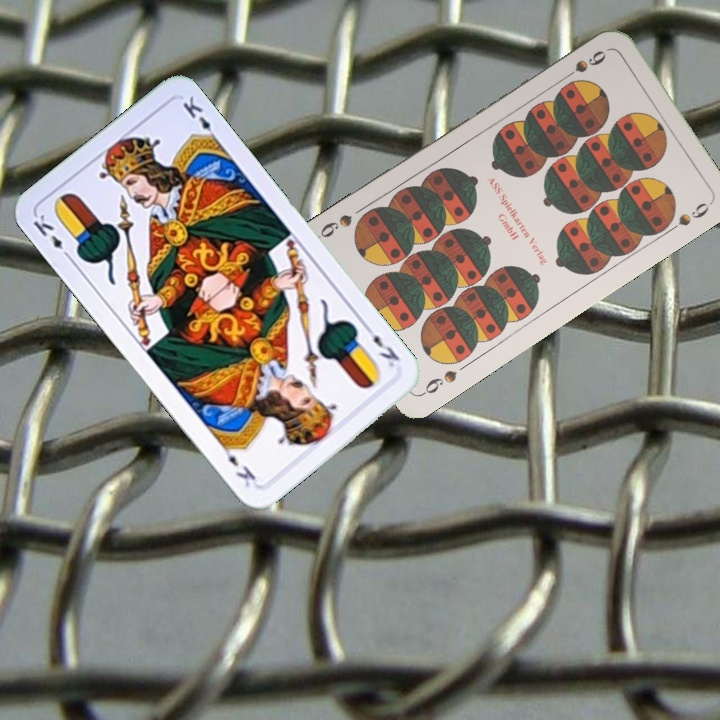EK: (29, 210, 75, 263), (360, 321, 403, 370)
S9: (557, 46, 609, 84), (418, 366, 460, 398)
